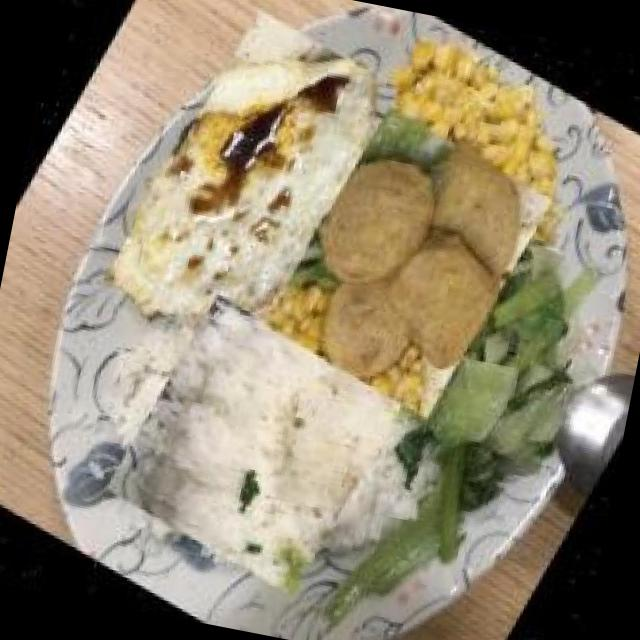chicken_nuggets: (251, 88, 564, 435)
fried_eggs: (93, 0, 410, 380)
rice: (91, 281, 419, 609)
